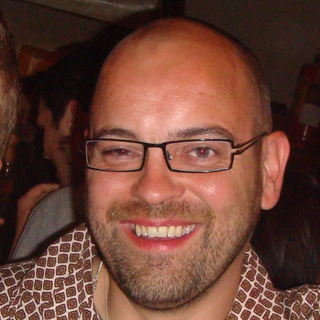eye: (176, 143, 224, 165), (95, 142, 140, 163)
